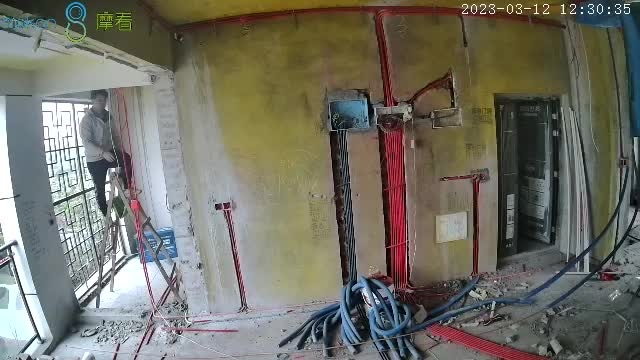people: (79, 91, 145, 228)
window: (42, 98, 132, 302)
